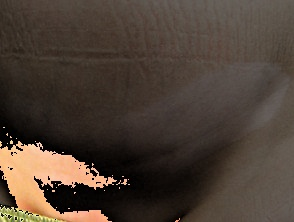vitiligo: (0, 52, 294, 206)
